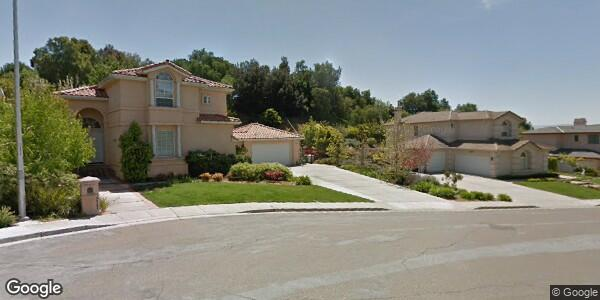Steel_Pole: (9, 1, 30, 221)
